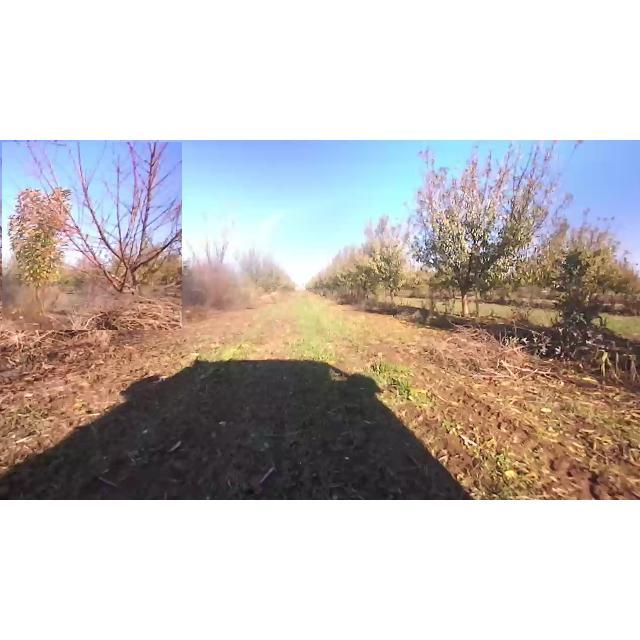direk: (2, 142, 182, 330), (402, 142, 572, 308), (98, 177, 186, 319), (344, 213, 418, 307)
